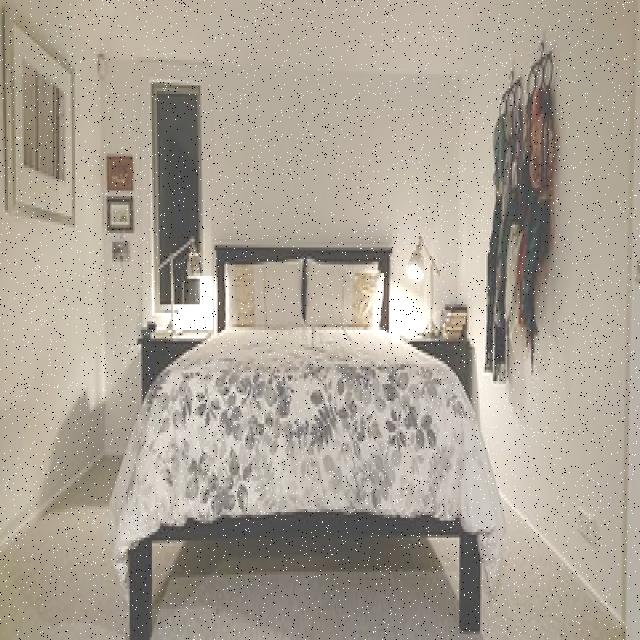bed: (136, 237, 443, 589)
